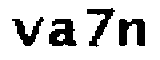7: (85, 6, 116, 48)
a: (46, 14, 79, 48)
n: (116, 15, 148, 48)
v: (9, 13, 43, 50)
